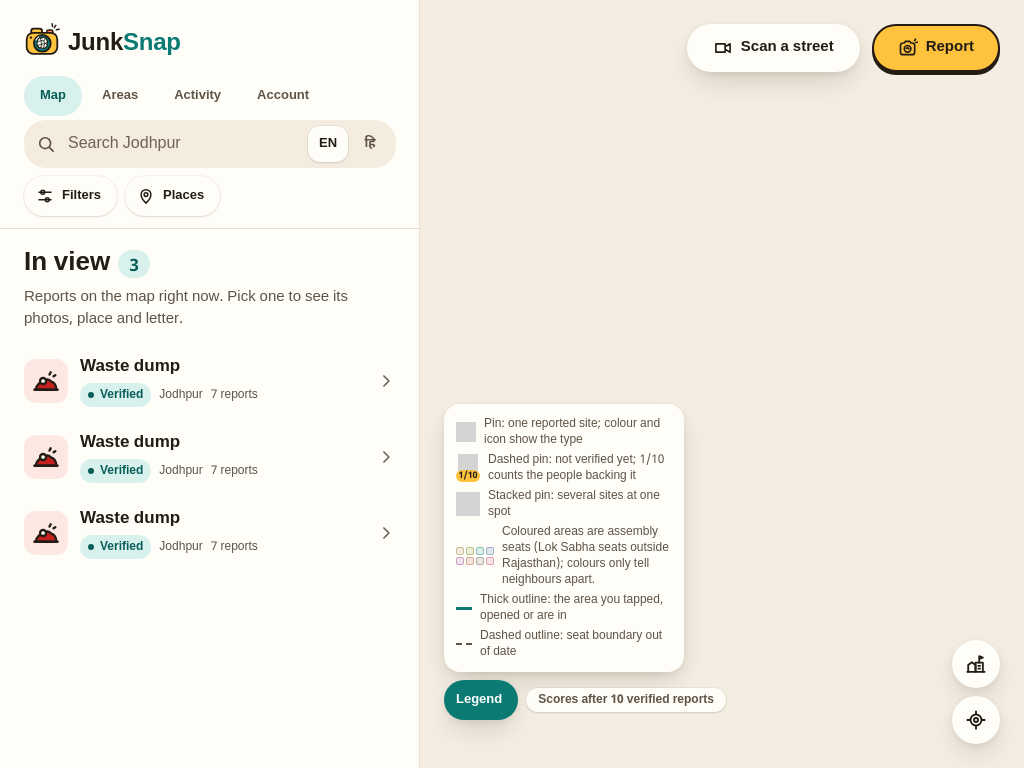
Test: Places with reports on a phone › fits the map to the place picked and closes the list
Click the button with aria-label "Places with reports".
click(173, 196)  # box [125,176,220,216]
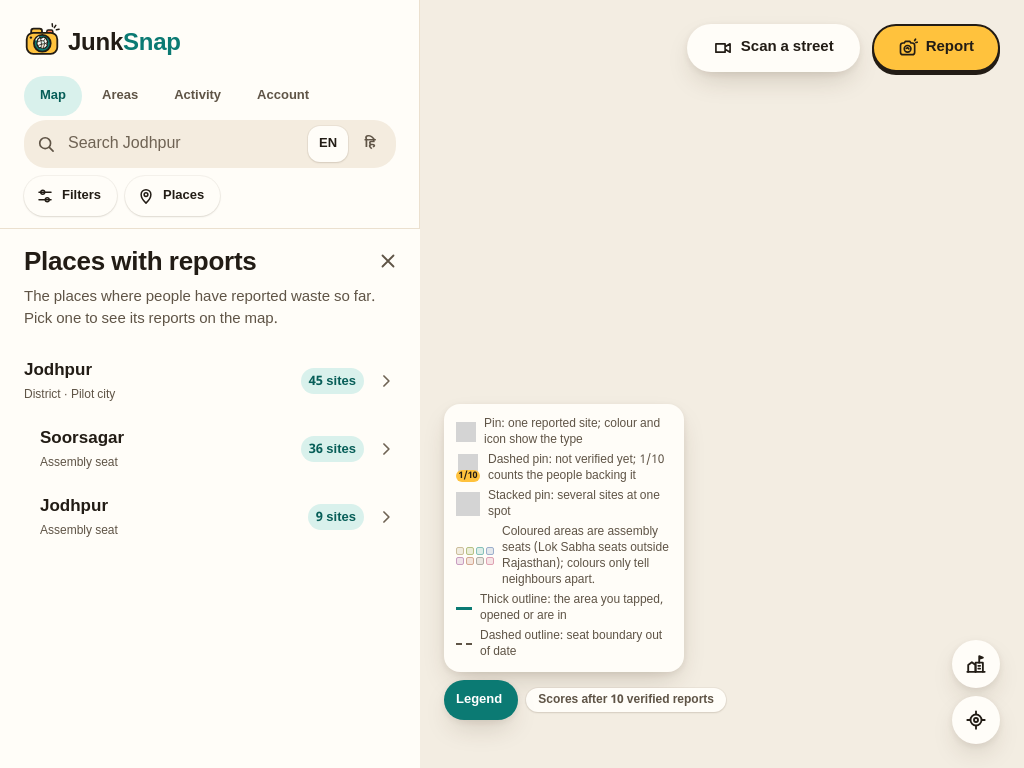
Click the button "Soorsagar Assembly seat 36 sites".
click(82, 439)  # box [16,415,404,483]
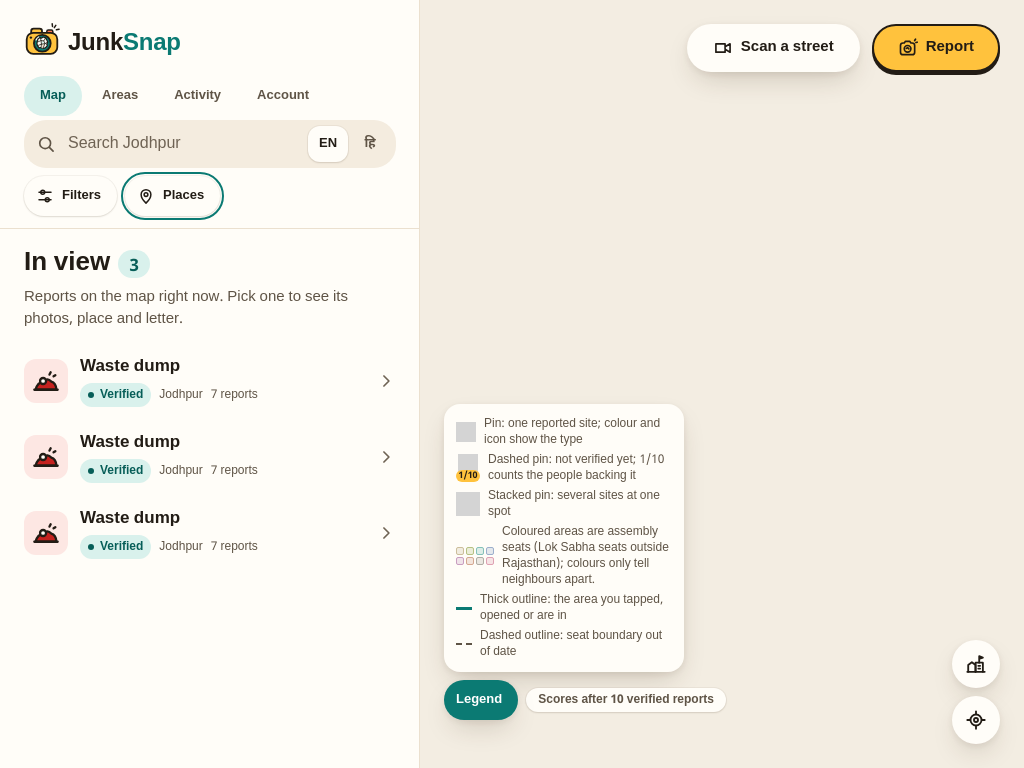
expect the heading "Places with reports" is gone: met
